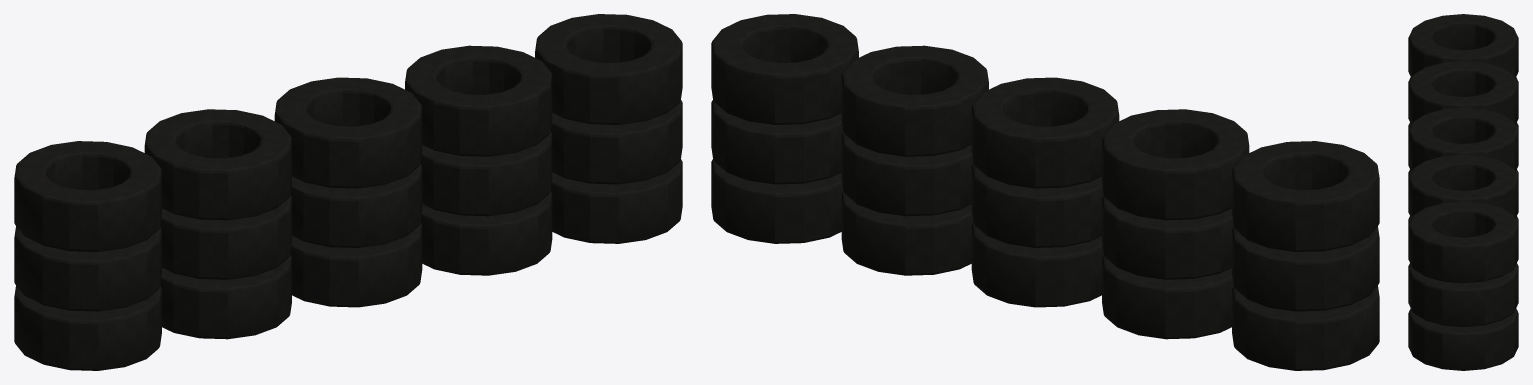
File: tyre-wall.glb
3 views of the same model, side by side, from view 1: azimuth 30°, elevation 25°; view 2: azimuth 150°, elevation 25°; view 3: azimuth 270°, elevation 25° (orthographic). The views are drawn at different scales.
Visible parts, largest first — view 1: tyre-stack-1-layer-3, tyre-stack-5-layer-3, tyre-stack-3-layer-3, tyre-stack-4-layer-3, tyre-stack-2-layer-3, tyre-stack-1-layer-1, tyre-stack-1-layer-2, tyre-stack-5-layer-1, tyre-stack-3-layer-1, tyre-stack-4-layer-2, tyre-stack-5-layer-2, tyre-stack-3-layer-2 (+3 smaller); view 2: tyre-stack-1-layer-3, tyre-stack-5-layer-3, tyre-stack-3-layer-3, tyre-stack-4-layer-3, tyre-stack-2-layer-3, tyre-stack-1-layer-1, tyre-stack-1-layer-2, tyre-stack-5-layer-1, tyre-stack-3-layer-1, tyre-stack-4-layer-2, tyre-stack-5-layer-2, tyre-stack-3-layer-2 (+3 smaller); view 3: tyre-stack-5-layer-3, tyre-stack-3-layer-3, tyre-stack-4-layer-3, tyre-stack-1-layer-3, tyre-stack-2-layer-3, tyre-stack-5-layer-1, tyre-stack-5-layer-2.
Part boxes in pixels (<box>): tyre-stack-1-layer-3: <box>14,141,161,251</box>; tyre-stack-5-layer-3: <box>535,14,682,124</box>; tyre-stack-3-layer-3: <box>274,77,422,188</box>; tyre-stack-4-layer-3: <box>405,45,552,156</box>; tyre-stack-2-layer-3: <box>144,109,291,220</box>; tyre-stack-1-layer-1: <box>14,286,161,370</box>; tyre-stack-1-layer-2: <box>14,226,161,311</box>; tyre-stack-5-layer-1: <box>550,159,682,243</box>; tyre-stack-3-layer-1: <box>290,223,422,307</box>; tyre-stack-4-layer-2: <box>420,132,552,216</box>; tyre-stack-5-layer-2: <box>550,100,682,184</box>; tyre-stack-3-layer-2: <box>290,163,422,247</box>; tyre-stack-1-layer-3: <box>1232,141,1379,251</box>; tyre-stack-5-layer-3: <box>711,14,858,124</box>; tyre-stack-3-layer-3: <box>971,77,1119,188</box>; tyre-stack-4-layer-3: <box>841,45,988,156</box>; tyre-stack-2-layer-3: <box>1102,109,1249,220</box>; tyre-stack-1-layer-1: <box>1232,286,1379,370</box>; tyre-stack-1-layer-2: <box>1232,226,1379,311</box>; tyre-stack-5-layer-1: <box>711,159,843,243</box>; tyre-stack-3-layer-1: <box>971,223,1103,307</box>; tyre-stack-4-layer-2: <box>841,132,973,216</box>; tyre-stack-5-layer-2: <box>711,100,843,184</box>; tyre-stack-3-layer-2: <box>971,163,1103,247</box>; tyre-stack-5-layer-3: <box>1408,201,1518,283</box>; tyre-stack-3-layer-3: <box>1408,107,1518,171</box>; tyre-stack-4-layer-3: <box>1408,154,1518,218</box>; tyre-stack-1-layer-3: <box>1408,14,1518,77</box>; tyre-stack-2-layer-3: <box>1408,61,1518,124</box>; tyre-stack-5-layer-1: <box>1408,308,1518,370</box>; tyre-stack-5-layer-2: <box>1408,264,1518,326</box>.
Bounding box in the file's own units: 4 × 1 × 0.8.
Materials: 1 (1 with a texture image).
